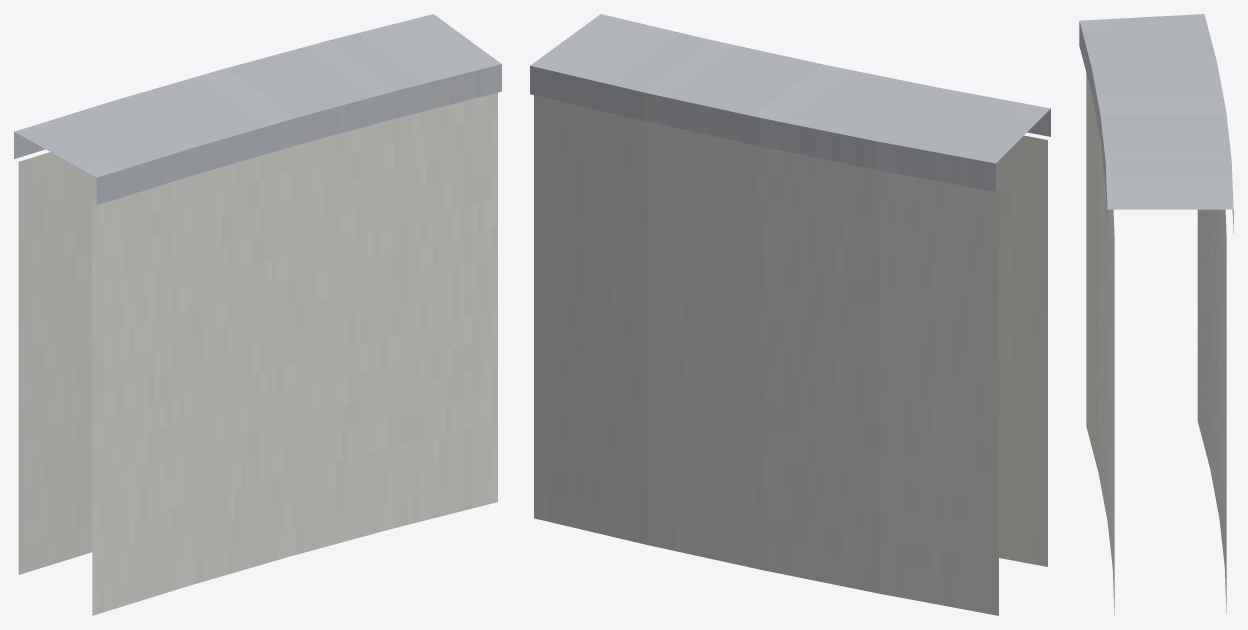
File: curve_board_14.obj
3 renders of one model, left to right at view 1: azimuth 30°, elevation 25°; view 2: azimuth 150°, elevation 25°; view 3: azimuth 270°, elevation 25°, orthographic. The views are drawn at different scales.
Parts seen in each view (by area): view 1: curve_board_14; view 2: curve_board_14; view 3: curve_board_14.
Part boxes in pixels (left/top/right/bottom): curve_board_14: left=14, top=14, right=501, bottom=615; curve_board_14: left=530, top=14, right=1050, bottom=615; curve_board_14: left=1079, top=14, right=1233, bottom=615.
Bounding box in the file's own units: 1.03 × 1 × 0.3439.
